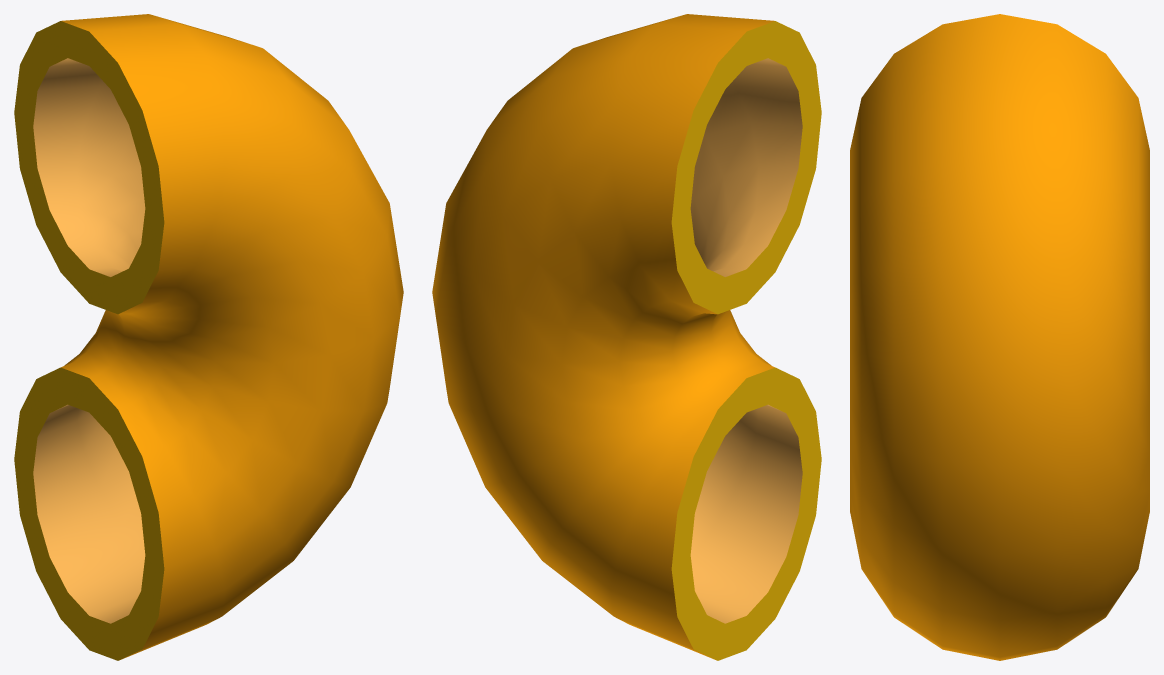
File: D_FBX_05_Pipe_03.fbx
3 views of the same model, side by side, from view 1: azimuth 30°, elevation 25°; view 2: azimuth 150°, elevation 25°; view 3: azimuth 270°, elevation 25° (orthographic).
Visible parts, largest first — view 1: D_FBX_05_Pipe_03; view 2: D_FBX_05_Pipe_03; view 3: D_FBX_05_Pipe_03.
Boxes of the visible parts, x1,y1,x2,y2 form: D_FBX_05_Pipe_03: (14, 14, 403, 660); D_FBX_05_Pipe_03: (432, 14, 821, 660); D_FBX_05_Pipe_03: (850, 14, 1149, 660).
Size of the model in its own units: 170 by 341 by 150.
